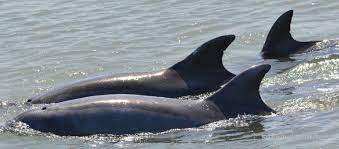fin: (17, 62, 288, 131)
